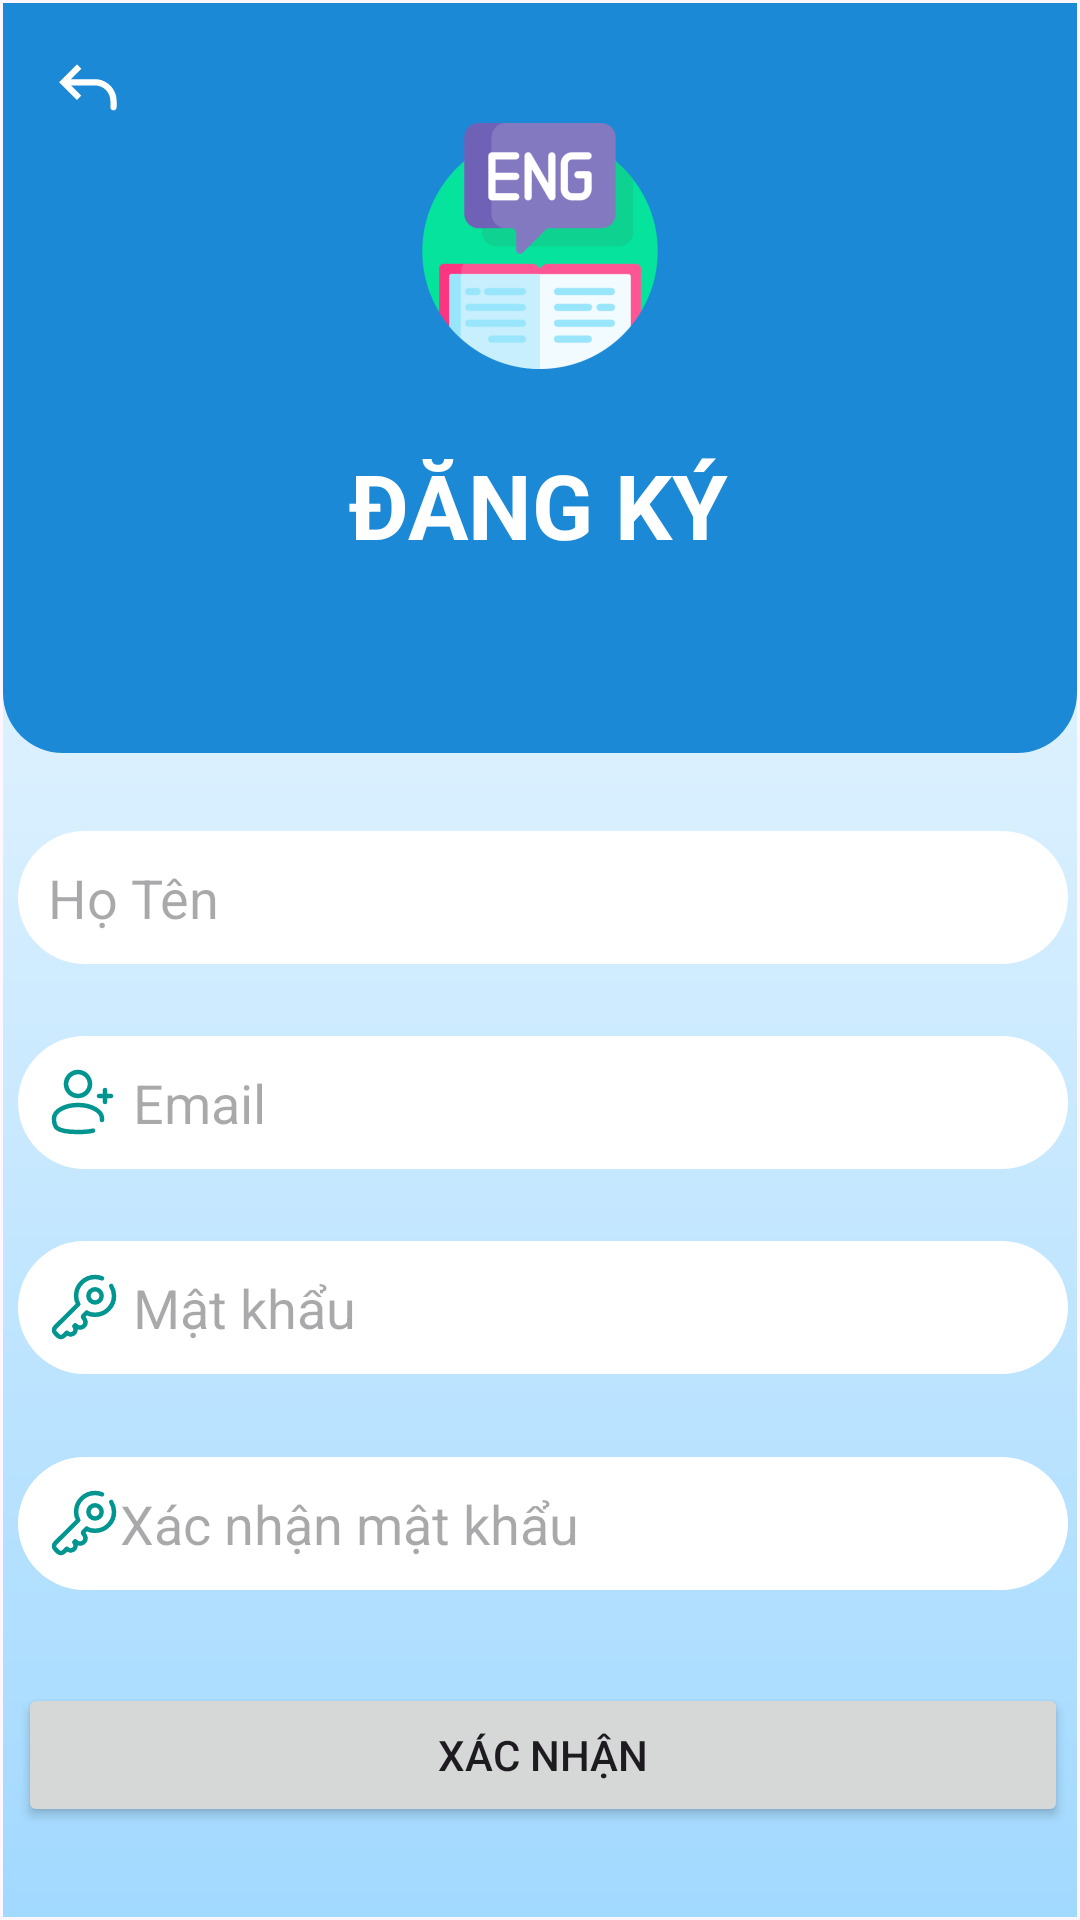

Icons on this 1080×1920 Android screen, each with the point to tap as (x=x, y=y):
back: (x=88, y=87)
